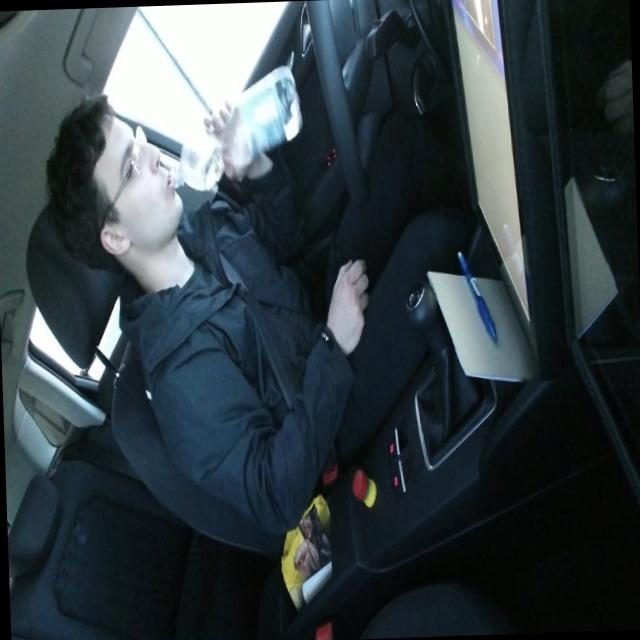pen: (456, 246, 497, 344)
